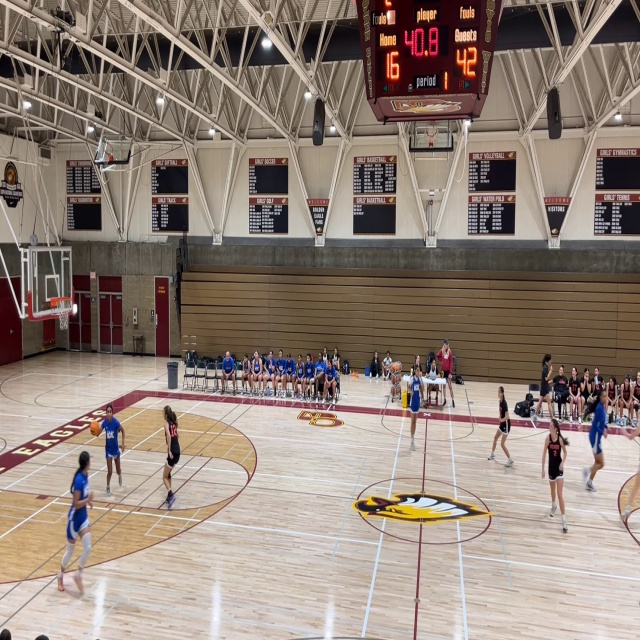Basketball: (90, 421, 101, 436)
